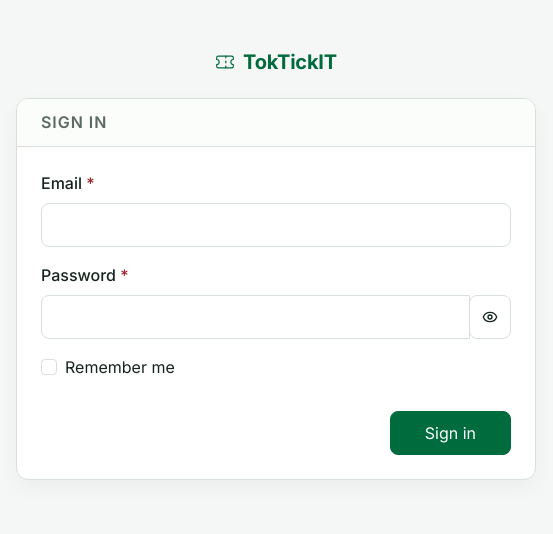
Issue 3 Login › UI-03 keeps rate-limit feedback safe and generic @issue-3
The image size is (553, 534).
Type "alice@example.com" into the field labelled "Email *" at (276, 225), box [41, 203, 511, 247]
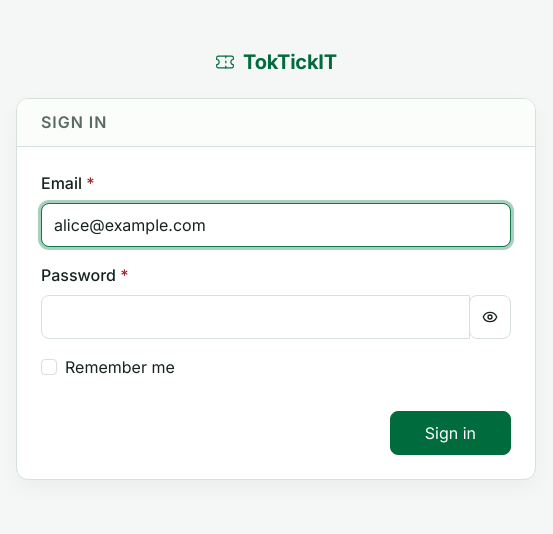
Type "Password1!" into the password field labelled "Password *" at (256, 317), box [41, 295, 470, 339]
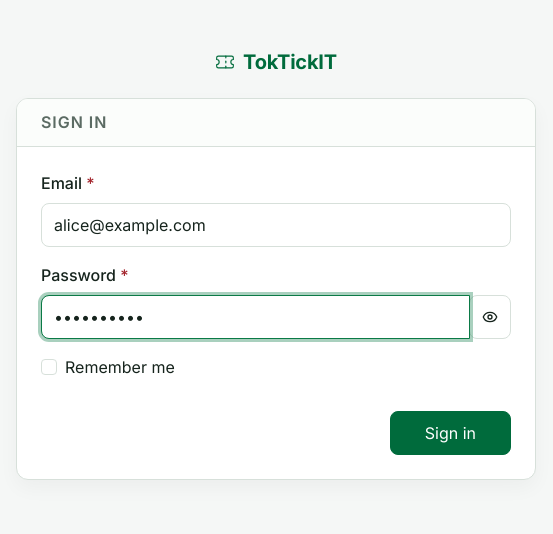
Click the button "Sign in" at (450, 433), box [390, 411, 511, 455]
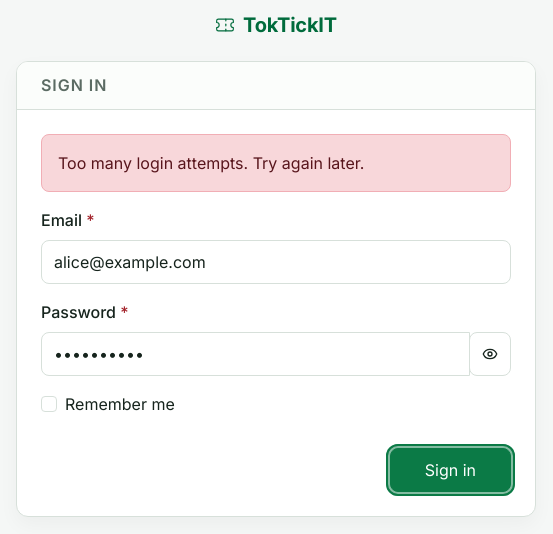
Now the text "Too many login attempts. Try again later." is shown, box [41, 134, 511, 192]
